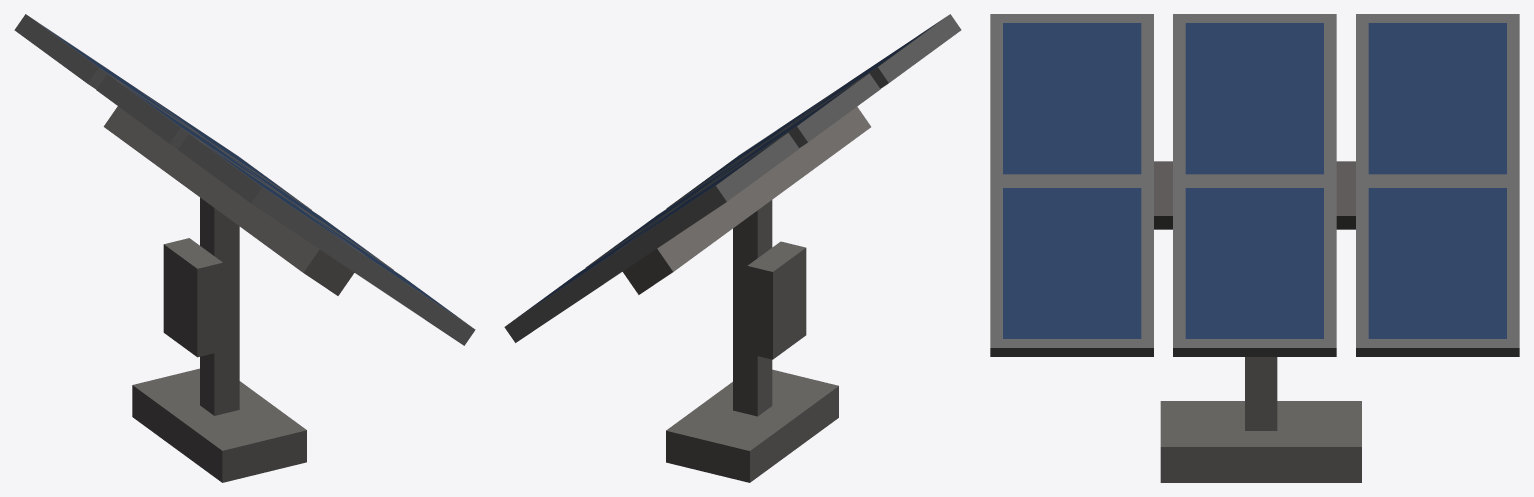
File: SM_Prop_SolarPanel_01.fbx
3 renders of one model, left to right at view 1: azimuth 30°, elevation 25°; view 2: azimuth 150°, elevation 25°; view 3: azimuth 270°, elevation 25°, orthographic. The views are drawn at different scales.
Parts seen in each view (by area): view 1: SM_Prop_SolarPanel_01; view 2: SM_Prop_SolarPanel_01; view 3: SM_Prop_SolarPanel_01.
Part boxes in pixels (x1,y1,x2,y2): SM_Prop_SolarPanel_01: (14,14,475,482); SM_Prop_SolarPanel_01: (504,14,961,482); SM_Prop_SolarPanel_01: (990,14,1519,482).
Size of the model in its own units: 3.02 by 4.62 by 5.5.
